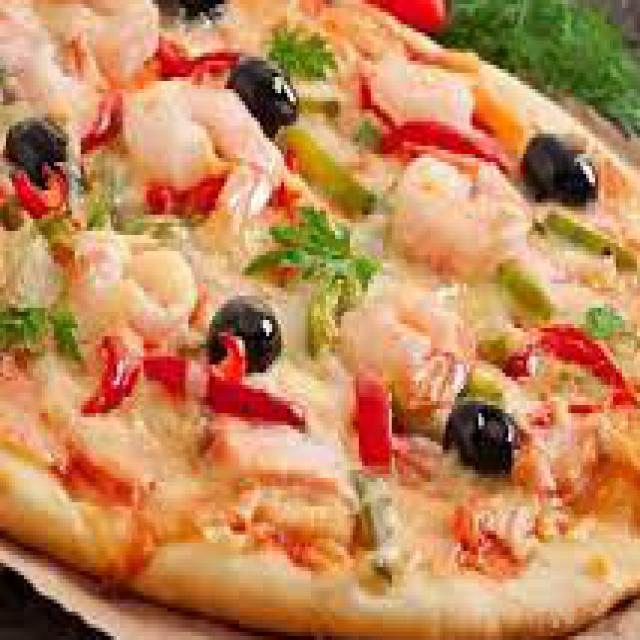camarao: (120, 72, 288, 242), (3, 0, 167, 142), (329, 292, 474, 429), (391, 157, 527, 272), (72, 240, 206, 354)
pizza: (3, 0, 639, 637)
